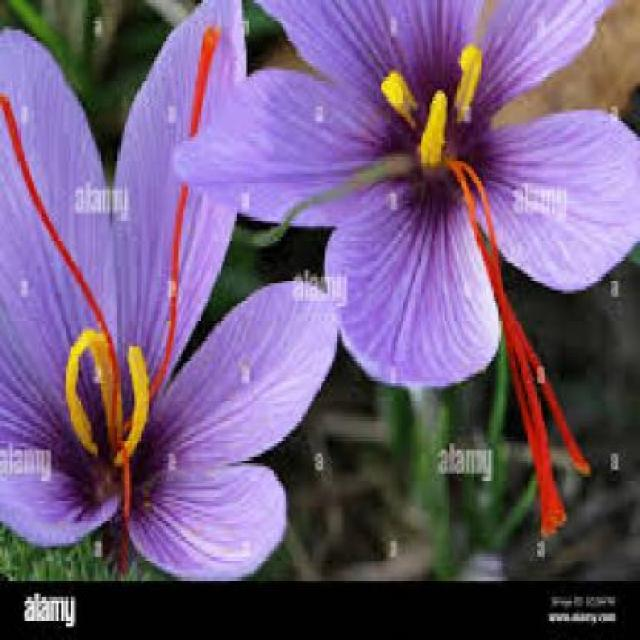saffron open: (0, 0, 336, 578), (176, 0, 640, 386)
